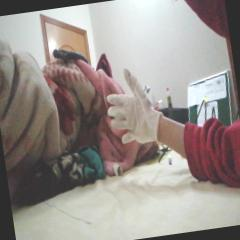gloved: (102, 64, 164, 147)
